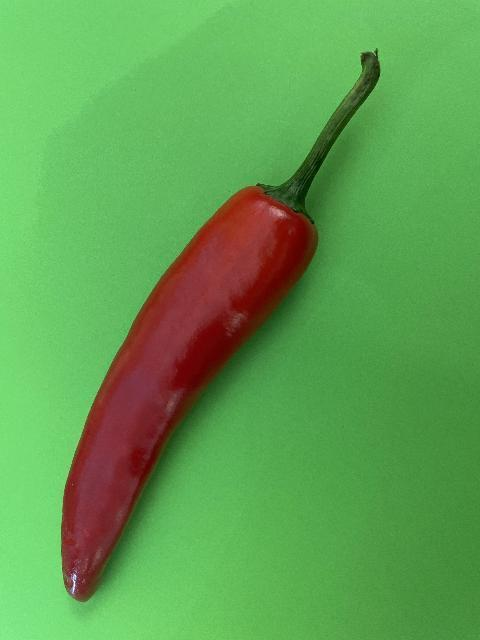chilli: (60, 50, 380, 602)
